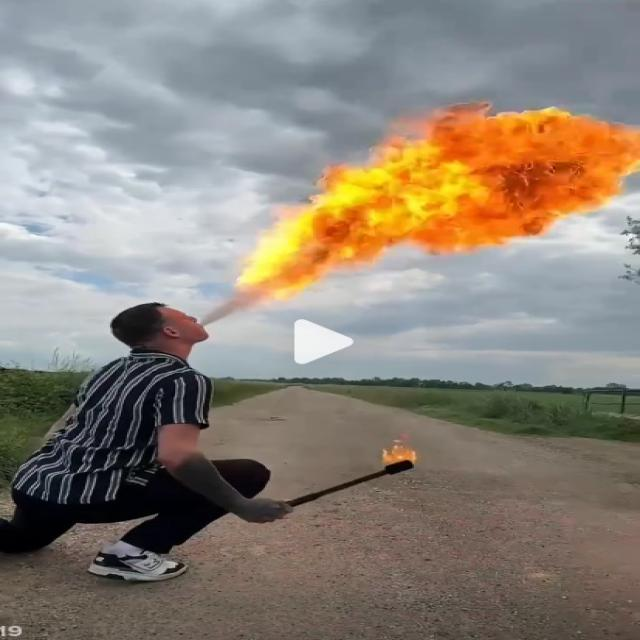fire: (237, 100, 640, 301)
